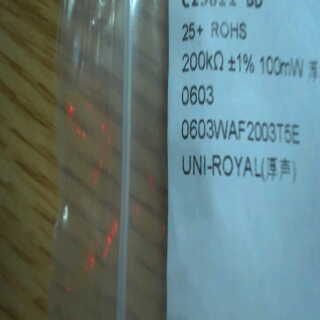200kR: (179, 45, 230, 75)
